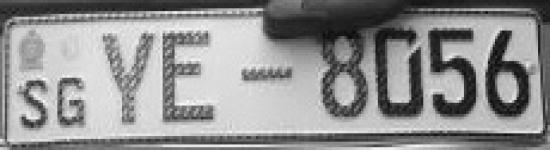-: (236, 61, 300, 90)
0: (370, 22, 426, 122)
5: (425, 17, 482, 121)
6: (484, 19, 535, 122)
8: (317, 19, 373, 126)
E: (158, 26, 220, 129)
G: (54, 70, 93, 132)
S: (17, 71, 50, 133)
Y: (101, 28, 157, 127)
